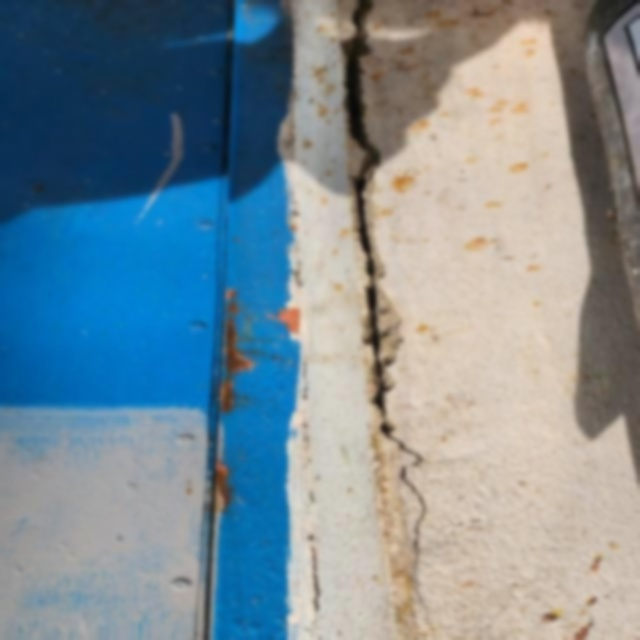SurfaceCrack: (301, 0, 477, 640), (146, 50, 270, 640)
